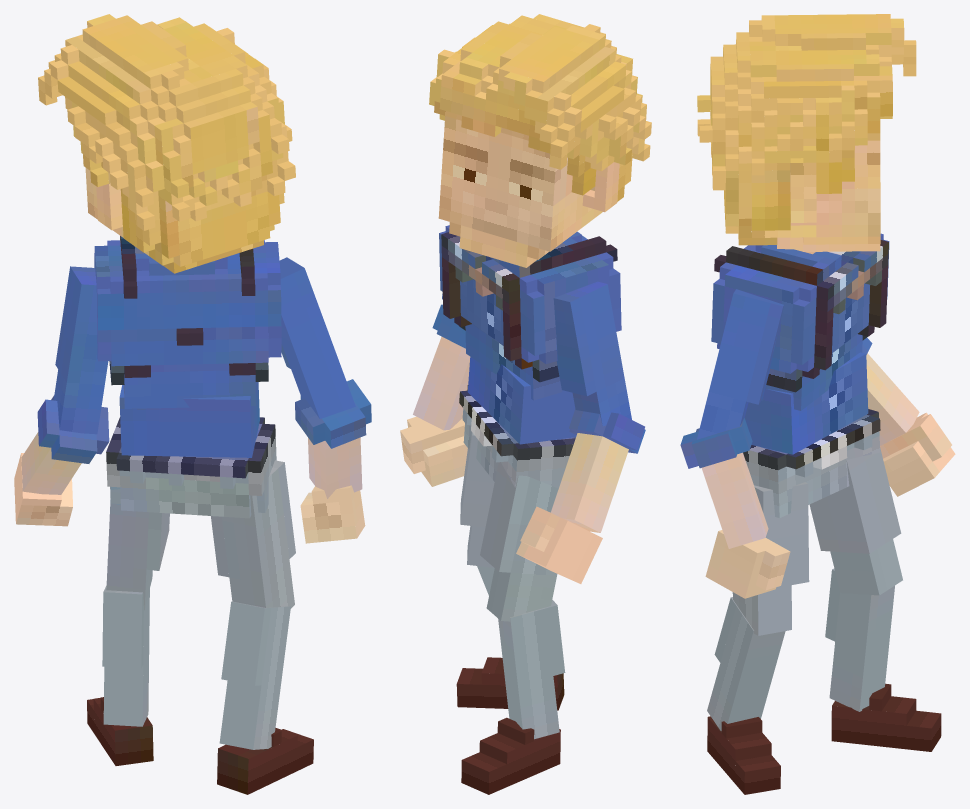
Rendered from middle-manager.glb.
3 views of the same model, side by side, from view 1: azimuth 30°, elevation 25°; view 2: azimuth 150°, elevation 25°; view 3: azimuth 270°, elevation 25° (orthographic). The views are drawn at different scales.
Visible parts, largest first — view 1: b1-Local; view 2: b1-Local; view 3: b1-Local.
Part boxes in pixels (bbox=[...]): b1-Local: bbox=[14, 14, 371, 794]; b1-Local: bbox=[400, 14, 651, 794]; b1-Local: bbox=[680, 14, 955, 794].
Bounding box in the file's own units: 2.07 × 5.14 × 1.8.
20 materials, 20 textured.
